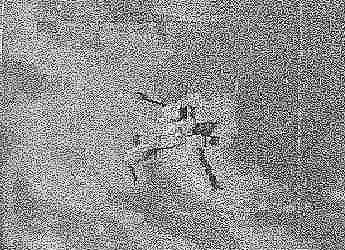plane: (120, 89, 224, 193)
